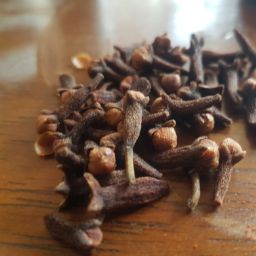Cloves: (45, 24, 256, 253), (25, 60, 256, 187)
